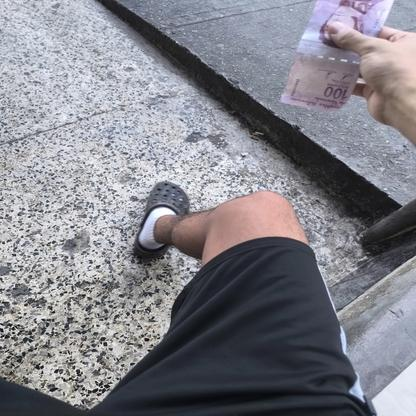vef_front: (278, 0, 394, 112)
